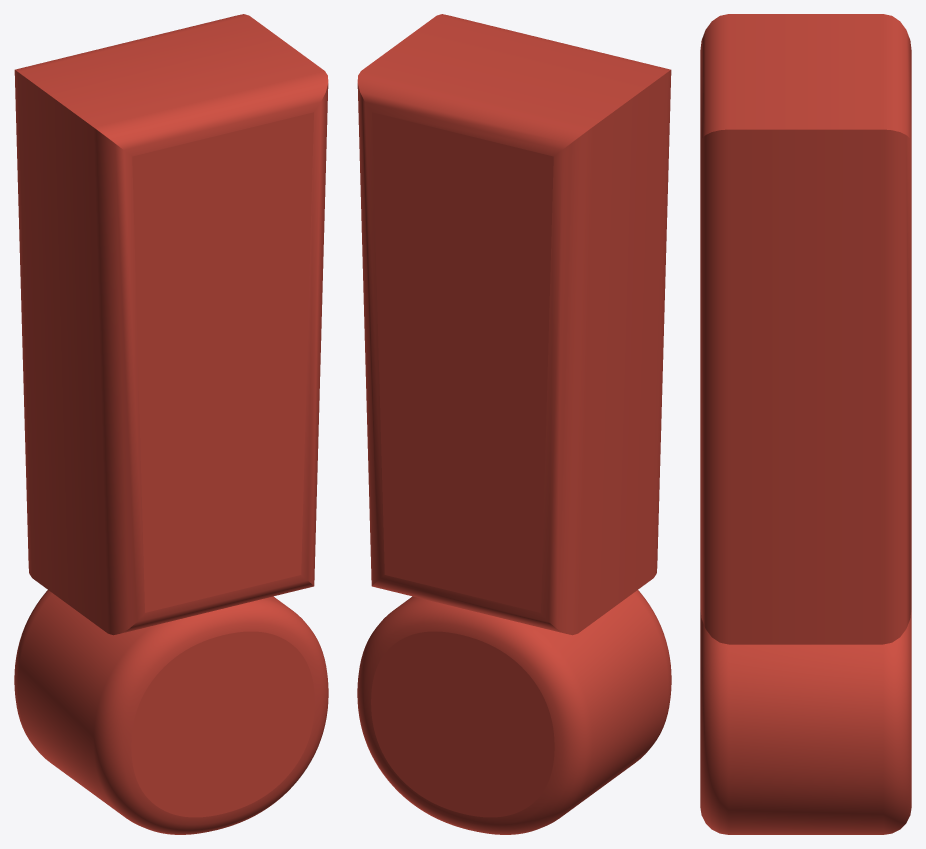
Rendered from exclamacao.glb.
The picture shows the model from 3 angles, left to right: view 1: azimuth 30°, elevation 25°; view 2: azimuth 150°, elevation 25°; view 3: azimuth 270°, elevation 25°; orthographic projection. The views are drawn at different scales.
Parts seen in each view (by area): view 1: exclamacao_corpo; view 2: exclamacao_corpo; view 3: exclamacao_corpo.
Boxes of the visible parts, bbox=[...] form: exclamacao_corpo: bbox=[14, 14, 328, 834]; exclamacao_corpo: bbox=[357, 14, 671, 834]; exclamacao_corpo: bbox=[700, 14, 911, 834].
Bounding box in the file's own units: 0.2123 × 0.6391 × 0.164.
